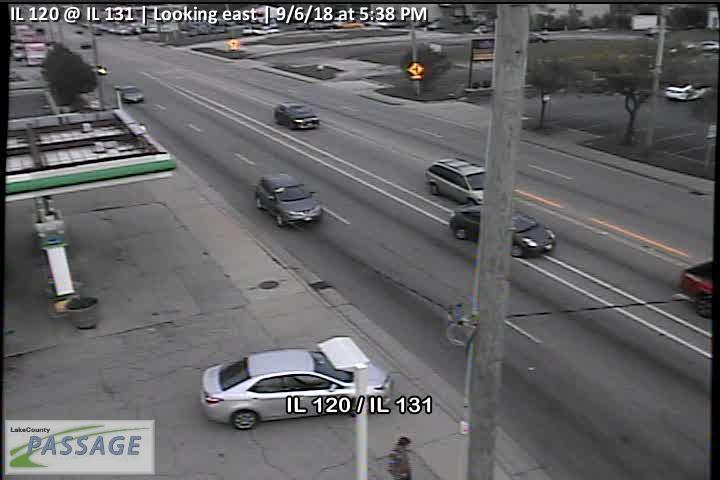SUV: (255, 173, 324, 228), (426, 156, 487, 206)
Sedan: (198, 341, 393, 429), (450, 200, 557, 259), (274, 99, 320, 130), (115, 84, 145, 104)
